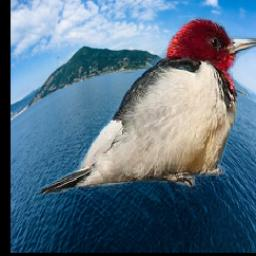Woodpecker: (36, 18, 256, 195)
